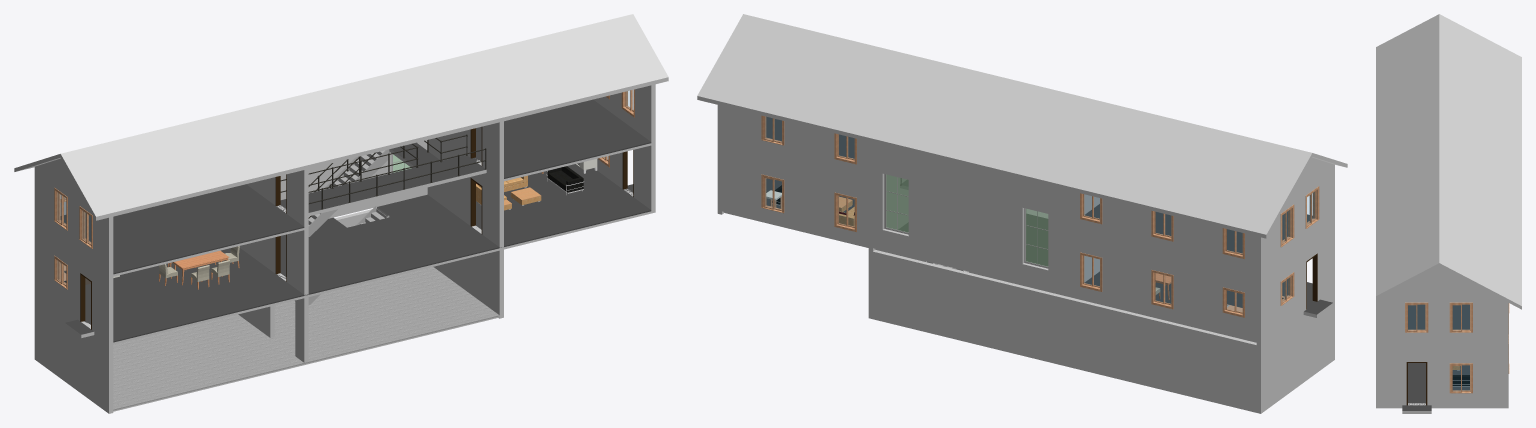
The model's file is casa 1 prueba 2.fbx.
3 views of the same model, side by side, from view 1: azimuth 30°, elevation 25°; view 2: azimuth 150°, elevation 25°; view 3: azimuth 270°, elevation 25° (orthographic). The views are drawn at different scales.
Parts seen in each view (by area): view 1: Floors, Roofs, Walls, Railings, M_Door-Opening, M_Sliding with Trim, Stairs, Dining_Table_amp_Chair_11036, sectional_sofa_6482, M_Sofa-Corbu; view 2: Walls, Roofs, M_Sliding with Trim, Floors, Fija 6 Paneles; view 3: Roofs, Walls, M_Sliding with Trim, Floors, M_Sofa-Corbu, M_Door-Opening.
Part boxes in pixels (x1,y1,x2,y2): Floors: (60, 99, 651, 411); Roofs: (14, 14, 668, 220); Walls: (34, 84, 655, 413); Railings: (280, 134, 486, 218); M_Door-Opening: (80, 127, 633, 329); M_Sliding with Trim: (54, 89, 634, 289); Stairs: (308, 149, 389, 304); Dining_Table_amp_Chair_11036: (158, 246, 239, 289); sectional_sofa_6482: (476, 175, 541, 210); M_Sofa-Corbu: (546, 166, 583, 195); Walls: (717, 105, 1334, 413); Roofs: (697, 14, 1347, 238); M_Sliding with Trim: (761, 115, 1319, 317); Floors: (724, 116, 1333, 342); Fija 6 Paneles: (884, 174, 1048, 268); Roofs: (1376, 14, 1521, 309); Walls: (1376, 266, 1508, 408); M_Sliding with Trim: (1405, 302, 1509, 393); Floors: (1402, 304, 1469, 413); M_Sofa-Corbu: (1452, 375, 1469, 386); M_Door-Opening: (1406, 362, 1427, 405).
Bounding box in the file's own units: 86.65 × 21.44 × 34.32.
31 materials, 14 textured.
